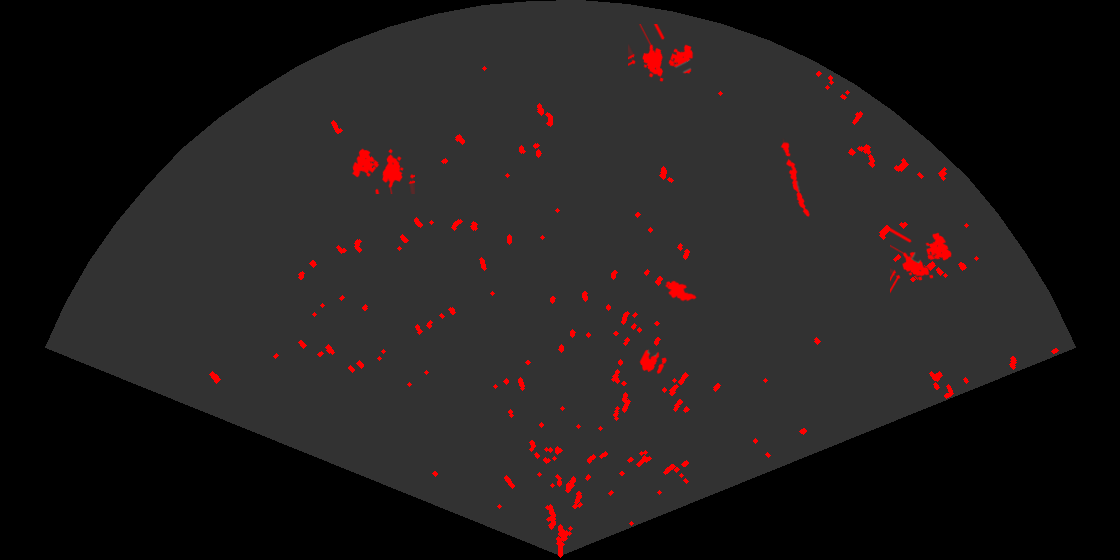AUV: (663, 279, 698, 303)
ball: (638, 348, 668, 375)
cage: (890, 226, 953, 295), (628, 24, 695, 83), (350, 147, 415, 194)
chain: (779, 138, 811, 219)
